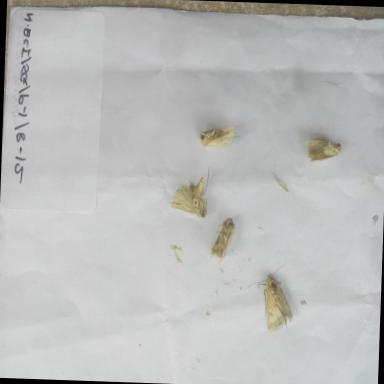abw: (243, 256, 298, 337), (161, 158, 213, 226), (193, 115, 243, 159), (204, 212, 239, 268), (298, 132, 347, 170)
